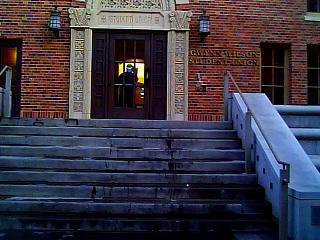Escaleras: (4, 113, 274, 239)
